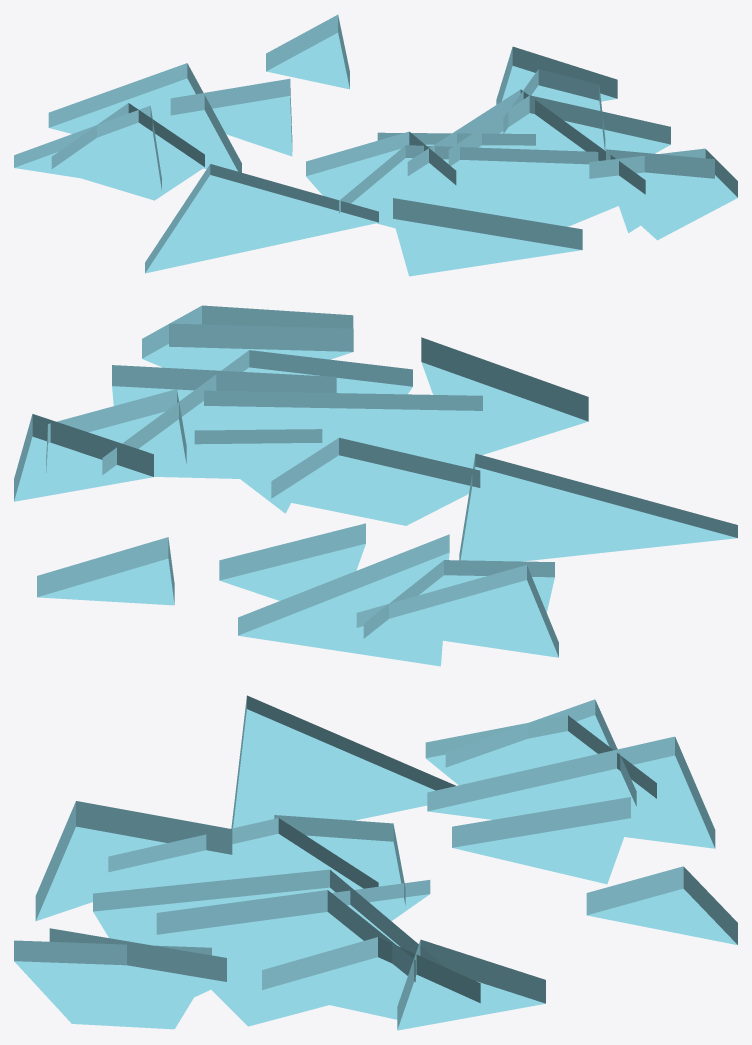
Rendered from broken_glass.glb.
3 views of the same model, one above another, from view 1: azimuth 30°, elevation 25°; view 2: azimuth 150°, elevation 25°; view 3: azimuth 270°, elevation 25° (orthographic). The views are drawn at different scales.
Visible parts, largest first — view 1: ClueModel; view 2: ClueModel; view 3: ClueModel.
Boxes of the visible parts, bbox=[...] form: ClueModel: bbox=[14, 14, 737, 276]; ClueModel: bbox=[14, 305, 737, 666]; ClueModel: bbox=[14, 695, 737, 1030].
Bounding box in the file's own units: 0.2145 × 0.008 × 0.204.
